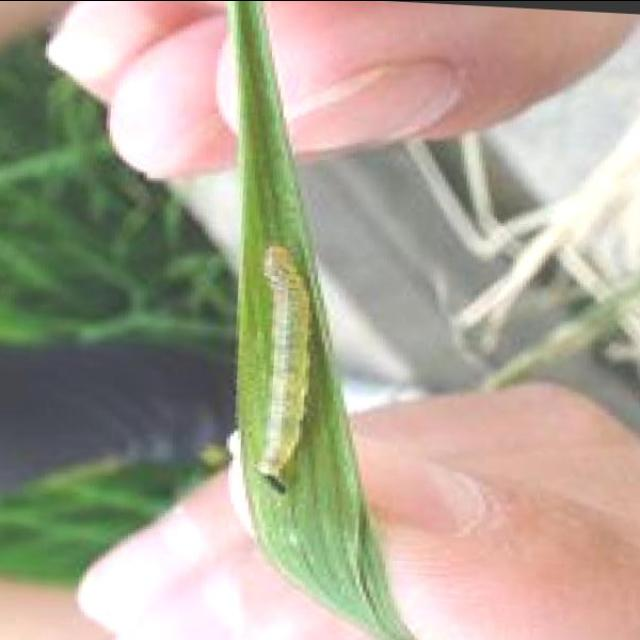leaf folder: (258, 245, 309, 478)
